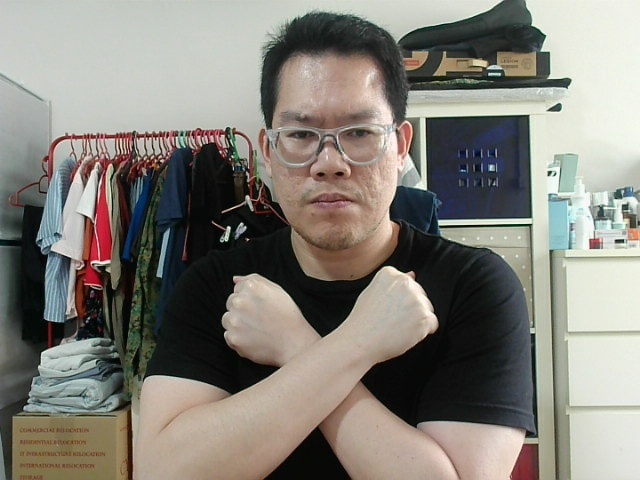love: (367, 274, 436, 334)
